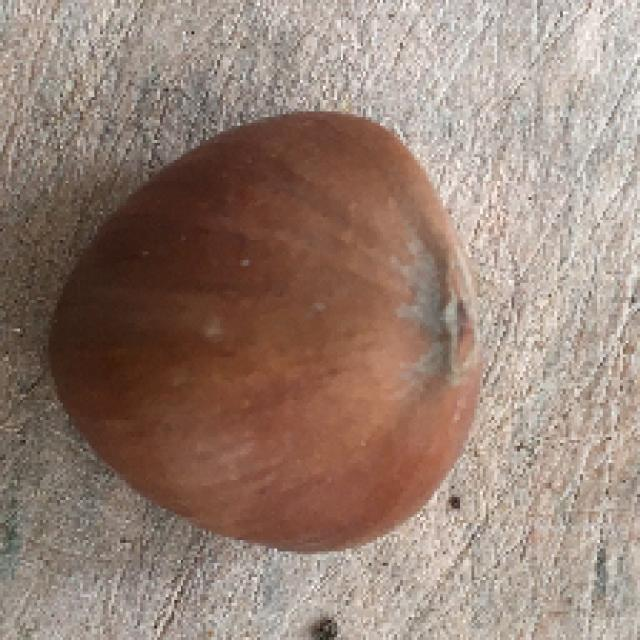damagedHazelnut: (28, 101, 502, 565)
